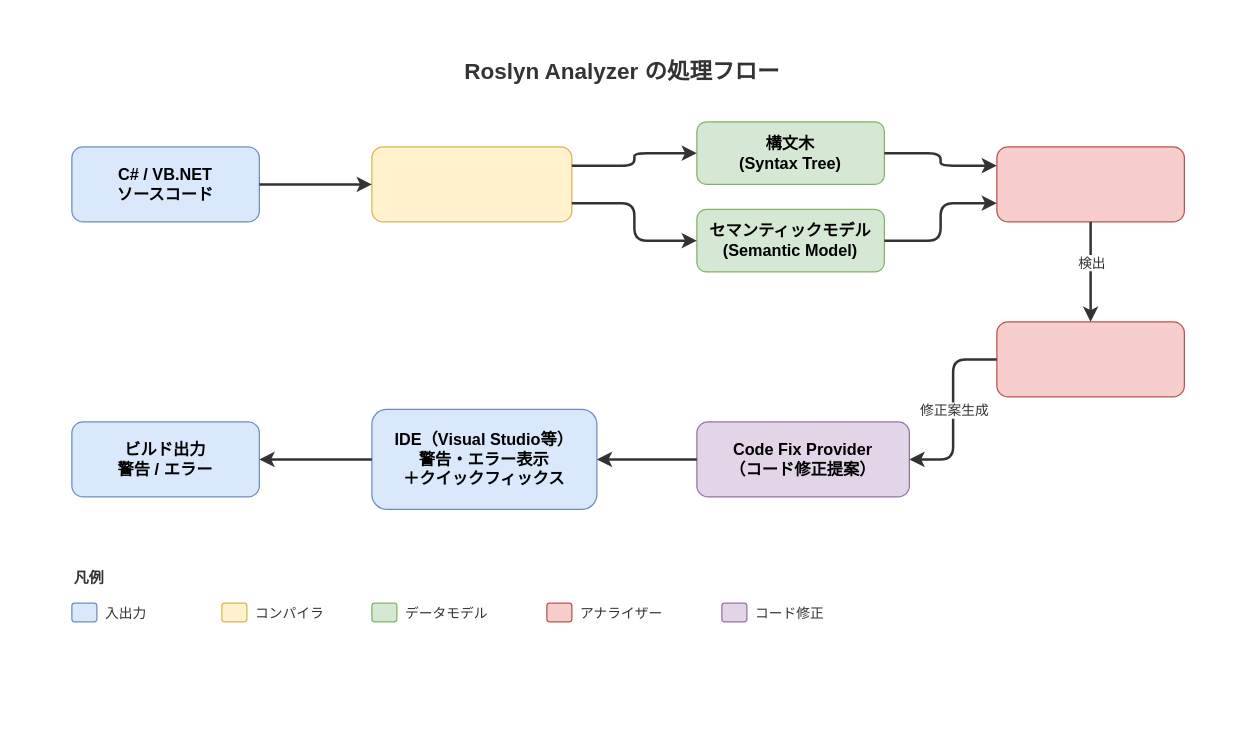
This 1243x743 diagram has some shape labels left out. Each missing label, with the centre of its shape:
Diagnostic Analyzer （診断アナライザー）: the point at 1090,184
Diagnostic （診断結果）: the point at 1090,359
Roslyn コンパイラ （パーサー）: the point at 471,184
